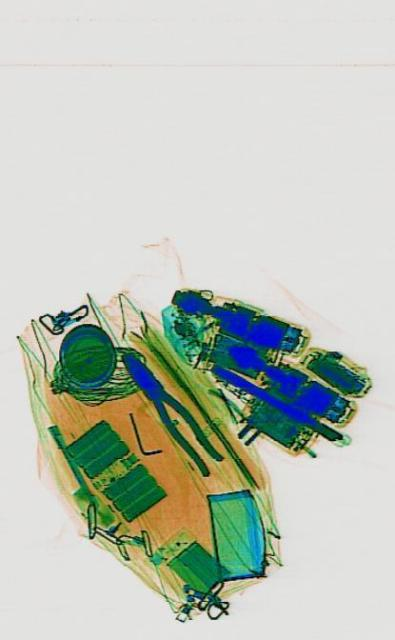Pliers: (113, 338, 224, 484)
